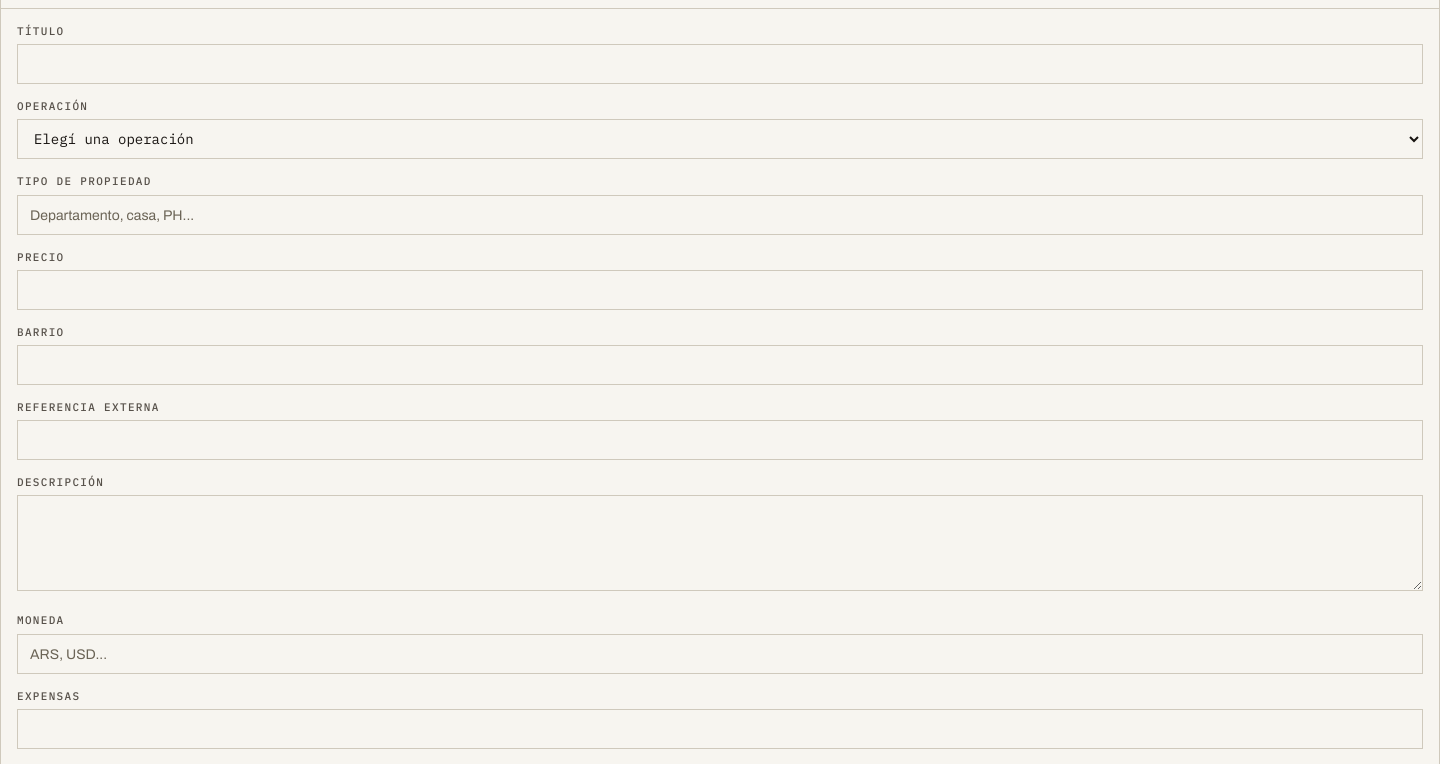
Test: PropertyForm › ante un 409 de externalRef duplicado lo muestra como error del campo correspondiente
In the field labelled "Título": x=720, y=64 [17,44,1423,84], type "Depto en Palermo"
Select "Venta" in the dropdown labelled "Operación": x=720, y=139 [17,119,1423,159]
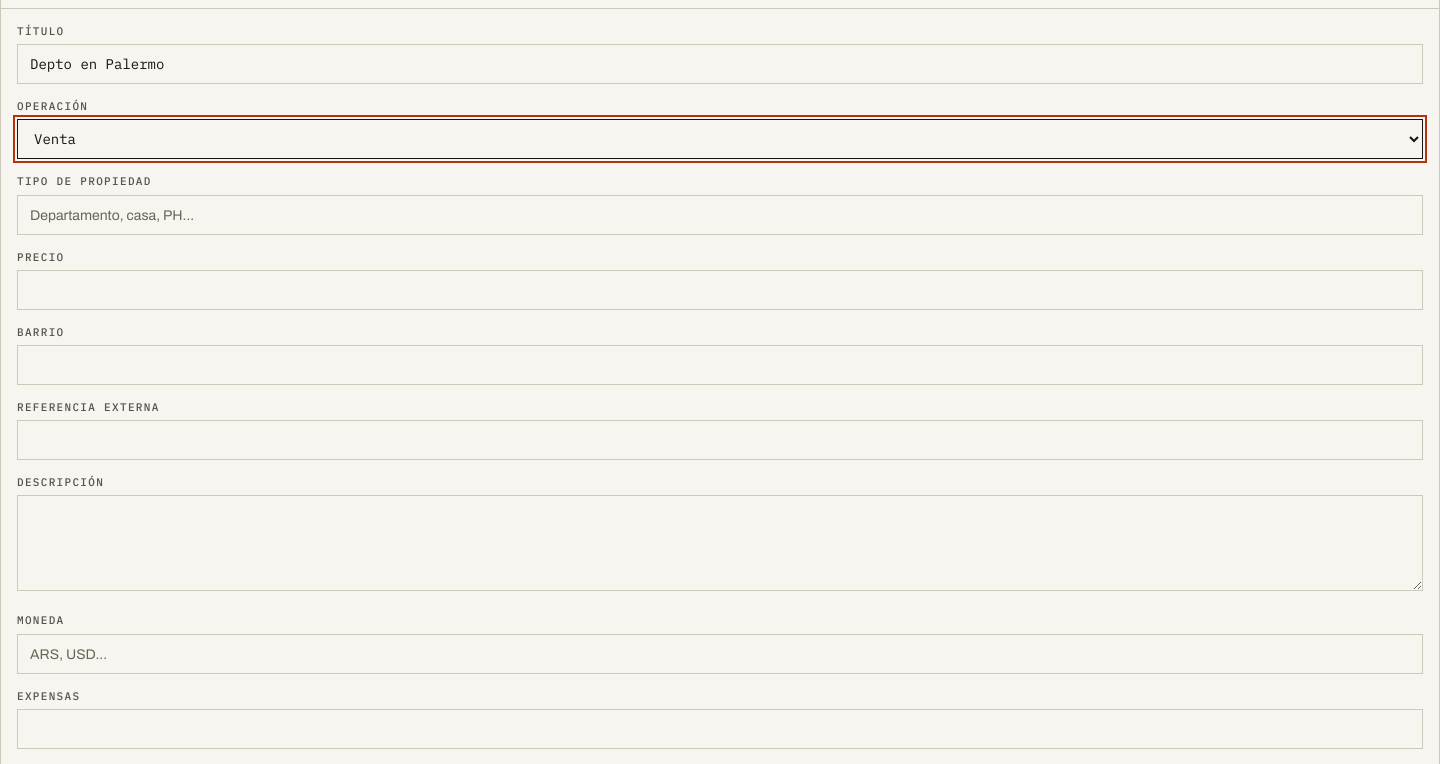
In the field labelled "Tipo de propiedad": x=720, y=215 [17,195,1423,235], type "Departamento"
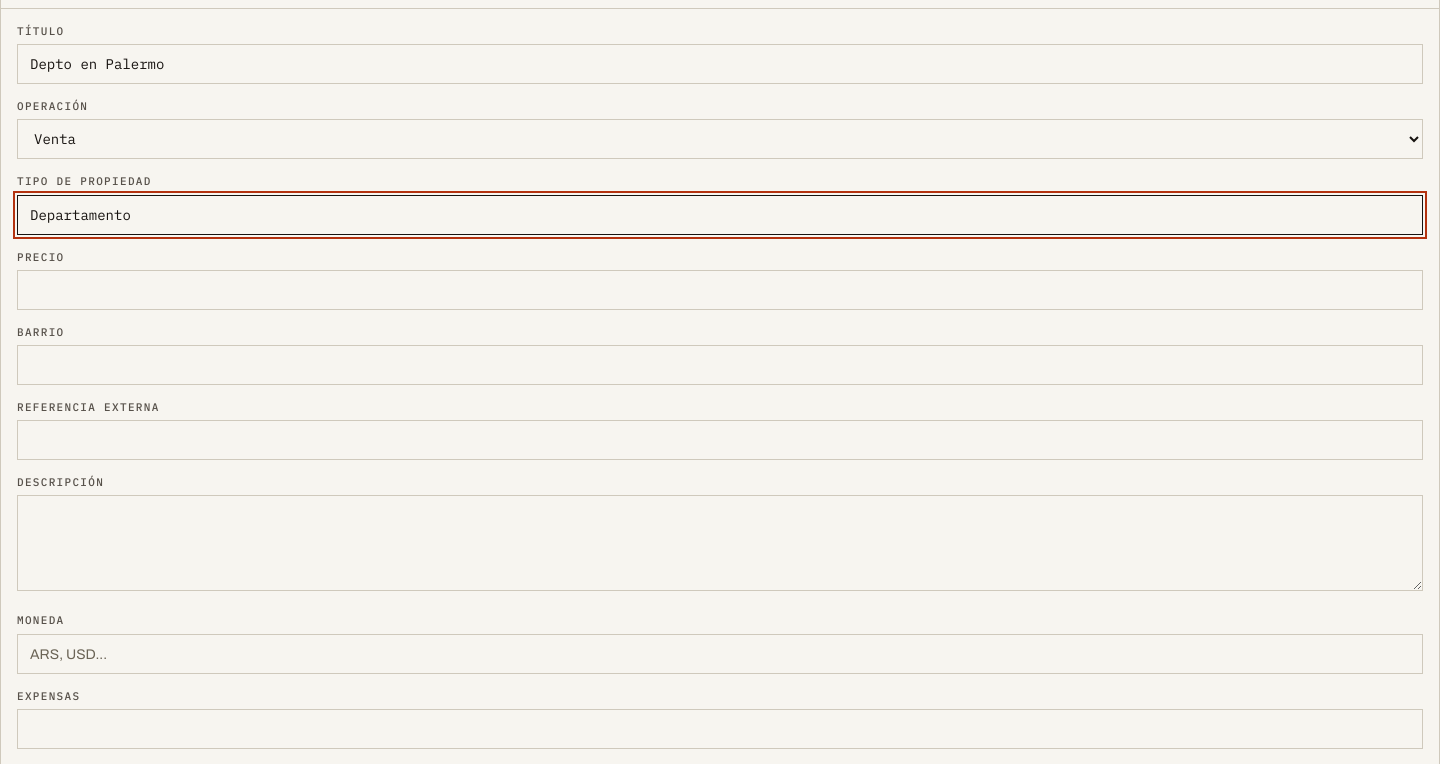
In the number field labelled "Precio": x=720, y=290 [17,270,1423,310], type "150000"
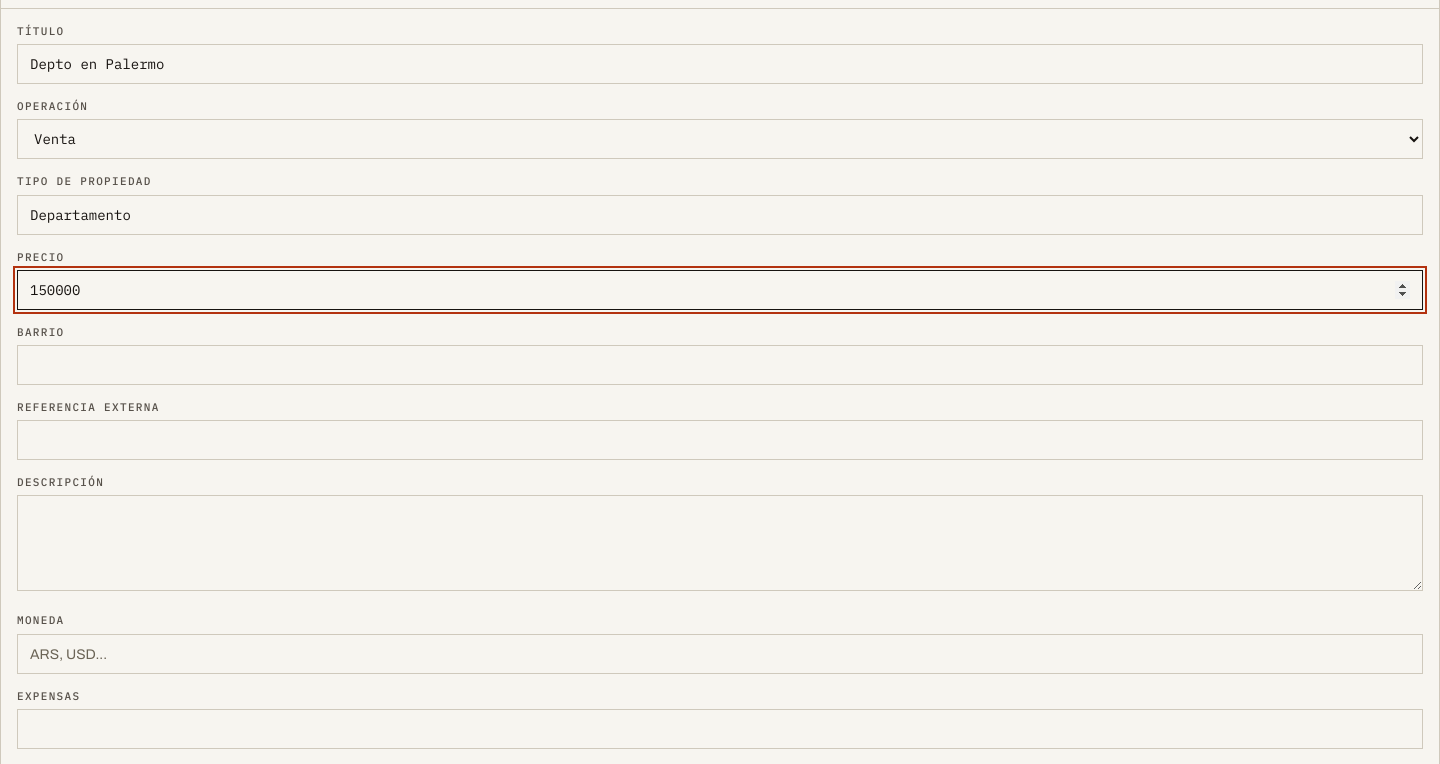
In the field labelled "Barrio": x=720, y=365 [17,345,1423,385], type "Palermo"
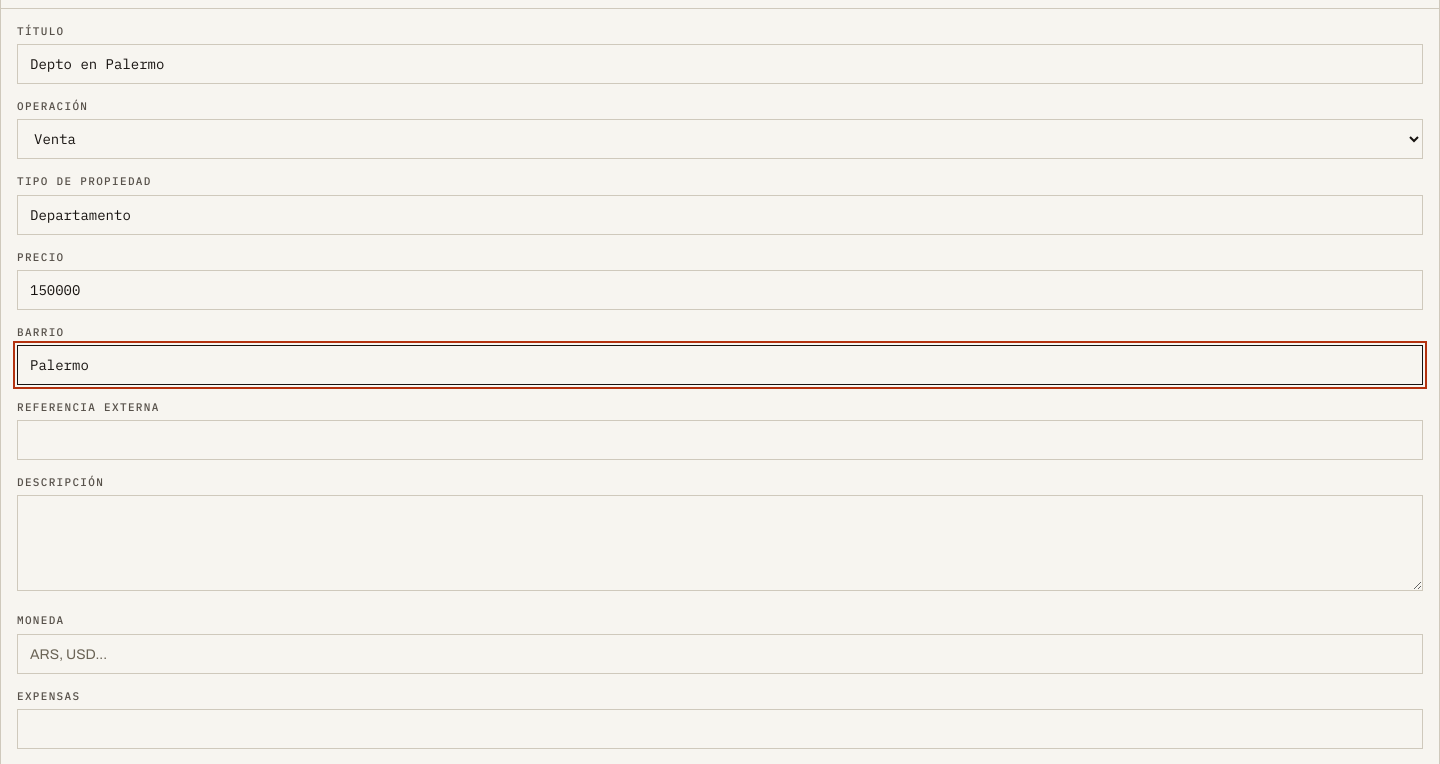
In the field labelled "Referencia externa": x=720, y=440 [17,420,1423,460], type "REF-1"
(page scrolled)
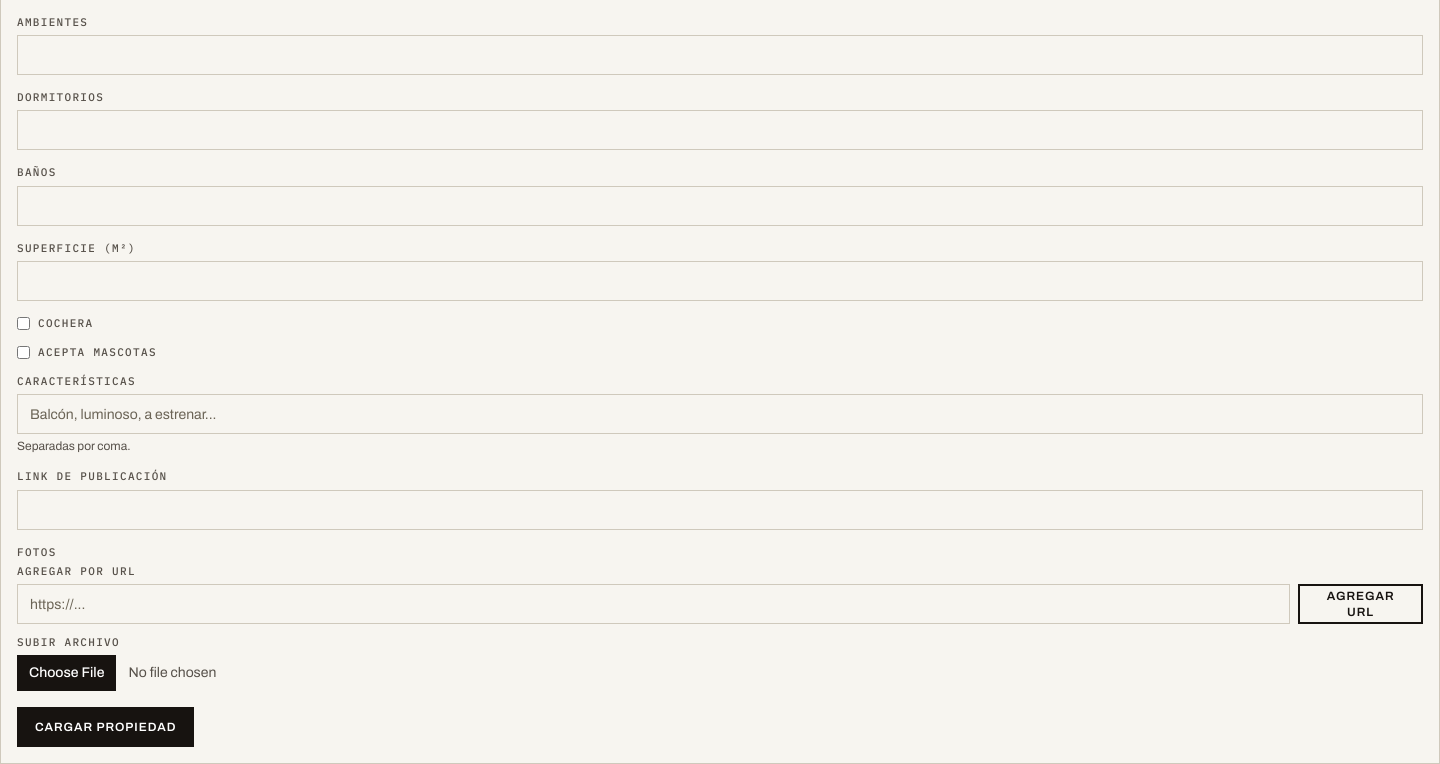
Click the button "Cargar propiedad": x=106, y=727 [17,707,194,747]
(page scrolled)
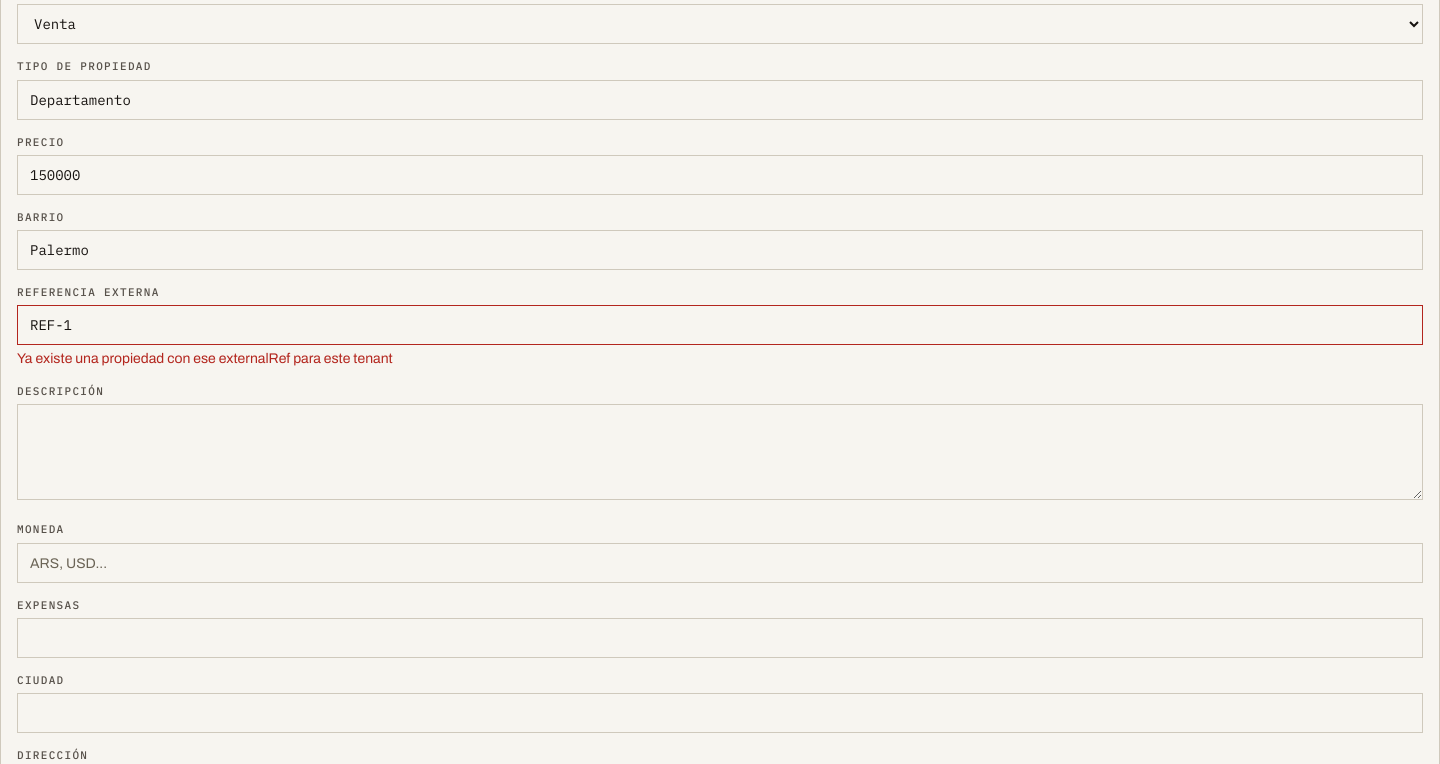
Expected: the text with test id "property-form-external-ref-error" reads "Ya existe una propiedad con ese externalRef para este tenant", [17,351,393,366]
